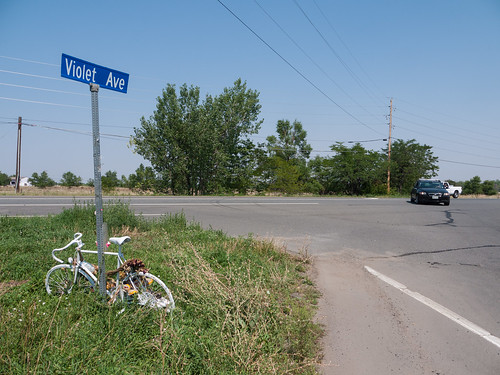bicicle: (46, 233, 180, 318)
road: (6, 196, 500, 233)
sign: (59, 54, 129, 95)
sky: (1, 1, 492, 109)
vegetation: (153, 90, 438, 192)
